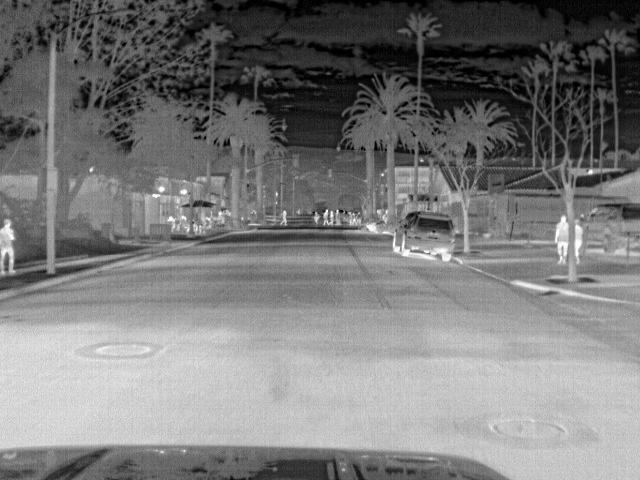car: (389, 210, 453, 262), (581, 200, 637, 254)
person: (0, 214, 19, 274), (553, 214, 571, 264), (571, 218, 585, 267), (319, 207, 331, 227), (277, 207, 289, 226), (330, 208, 342, 225)
